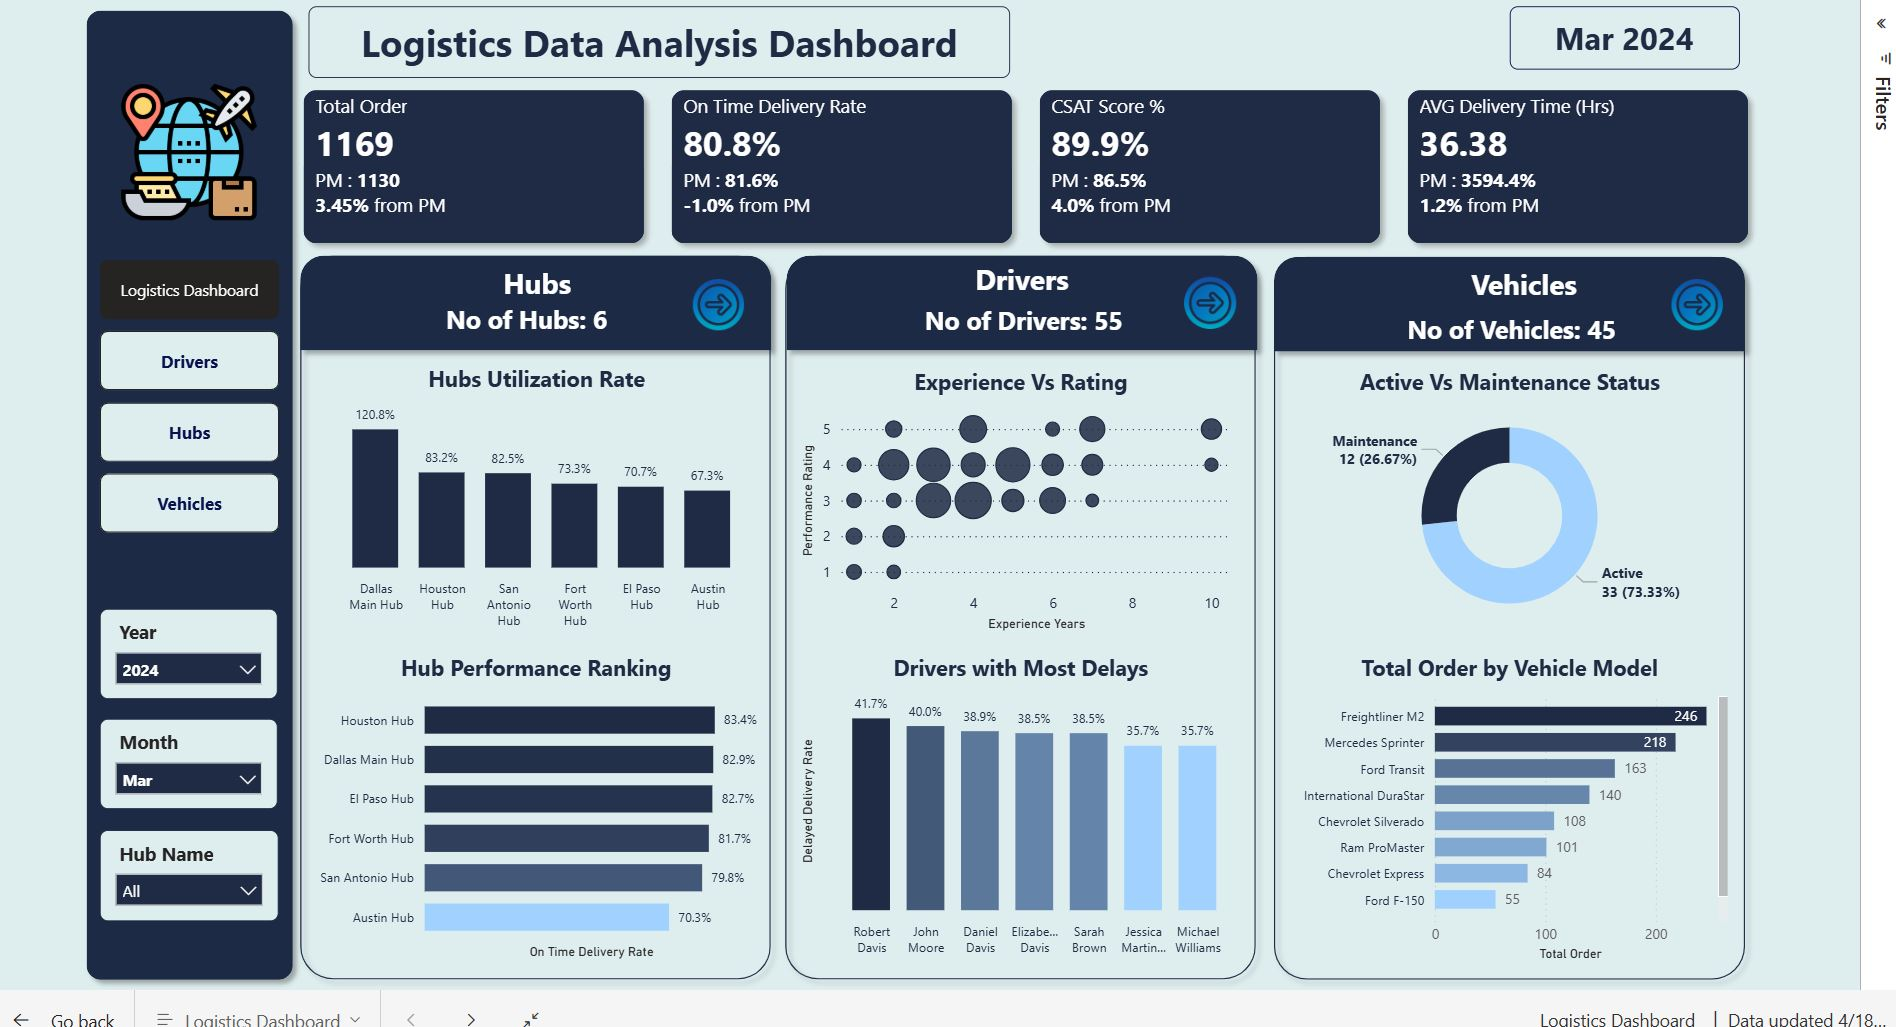

The page's visual inventory and layout, read from the dashboard file:
{"tool":"powerbi","page":{"name":"Logistics Dashboard","canvas":[1450,850],"ordinal":0},"visuals":[{"type":"shape","box":[0,0,195.1,850.3],"z":0},{"type":"textbox","box":[199.4,5.7,602.5,61.2],"z":1000},{"type":"slicer","fields":{"Values":["DATE.Year"]},"box":[20,522.6,153.2,77.3],"z":2000},{"type":"slicer","fields":{"Values":["DATE.Month"]},"box":[20,617.1,153.2,77.3],"z":3000},{"type":"cardVisual","fields":{"Data":["Orders.Total Order","Orders.On Time Delivery Rate","Orders.CSAT %","Orders.AVG Delivery Time (Hrs)"]},"box":[183.7,65.5,1266.2,158.1],"z":4000},{"type":"shape","box":[183.7,210.8,422,639.5],"z":5000},{"type":"shape","box":[183.1,210.5,422.4,99.5],"z":6000},{"type":"textbox","box":[300.5,226.5,190.9,41.3],"z":7000},{"type":"cardVisual","fields":{"Data":["Hubs.No of Hubs"]},"box":[317.2,246.5,177.3,47.6],"z":8000},{"type":"clusteredBarChart","title":"Hub Performance Ranking","fields":{"Category":["Orders.Hub Name"],"Y":["Orders.On Time Delivery Rate"]},"box":[199,560.8,392.9,268.3],"z":9000},{"type":"shape","box":[600.1,210.5,422,639.5],"z":10000},{"type":"shape","box":[601.2,210.5,422.4,99.5],"z":11000},{"type":"textbox","box":[737.8,223.6,149.5,39.9],"z":12000},{"type":"cardVisual","fields":{"Data":["Drivers.No of Drivers"]},"box":[729.2,246.4,178,48.4],"z":13000},{"type":"shape","box":[1019.2,211.9,422.4,638.6],"z":14000},{"type":"shape","box":[1019.2,211.9,422.4,99.5],"z":15000},{"type":"cardVisual","fields":{"Data":["Vehicles.No of Vehicles"]},"box":[1143.2,255.2,230.7,47.6],"z":16000},{"type":"scatterChart","title":"Experience Vs Rating","fields":{"X":["Drivers.Experience Years"],"Y":["Drivers.Performance Rating"],"Size":["Orders.CSAT Score"]},"box":[617.9,315,386,231.9],"z":17000},{"type":"clusteredColumnChart","title":"Drivers with Most Delays","fields":{"Category":["Drivers.DriverName"],"Y":["Orders.Delayed Delivery Rate"]},"box":[617.9,560.8,386,268.3],"z":18000},{"type":"donutChart","title":"Active Vs Maintenance Status","fields":{"Category":["Vehicles.Vehicle Status"],"Y":["CountNonNull(Vehicles.Vehicle ID)"]},"box":[1038.4,315,384.2,231.9],"z":19000},{"type":"barChart","title":"Total Order by Vehicle Model ","fields":{"Category":["Vehicles.Vehicle Model"],"Y":["Orders.Total Order"]},"box":[1038.4,560.8,384.2,270],"z":20000},{"type":"image","box":[942.9,229.3,61.2,61.2],"z":21000},{"type":"image","box":[28.6,65.9,136,130.3],"z":22000},{"type":"image","box":[521.1,230.5,60.1,61.6],"z":23000},{"type":"image","box":[1361.5,230.5,60.1,61.6],"z":24000},{"type":"pageNavigator","box":[20,223.3,154.6,236.2],"z":25000},{"type":"textbox","box":[1169.3,223.6,146.7,47],"z":26000},{"type":"cardVisual","fields":{"Data":["DATE.Year Month Value"]},"box":[1230.6,5.7,198,54.1],"z":27000},{"type":"clusteredColumnChart","title":"Hubs Utilization Rate","fields":{"Category":["Hubs.Hub Name"],"Y":["Hubs.Utalization Rate"]},"box":[199.4,311.9,391.7,235],"z":28000},{"type":"slicer","fields":{"Values":["Hubs.Hub Name"]},"box":[19.9,712.1,153.8,78.3],"z":29000}]}

Visuals, with their boxes on the page's 1450x850 design canvas (x1, y1, x2, y2). These are canvas units, not pixel positions in the 1896x1027 screenshot, which may show the page scaled, cropped or inside an application window:
shape: bbox(0, 0, 195, 850)
textbox: bbox(199, 6, 802, 67)
slicer - DATE.Year: bbox(20, 523, 173, 600)
slicer - DATE.Month: bbox(20, 617, 173, 694)
cardVisual - Orders.Total Order x Orders.On Time Delivery Rate: bbox(184, 66, 1450, 224)
shape: bbox(184, 211, 606, 850)
shape: bbox(183, 210, 606, 310)
textbox: bbox(300, 226, 491, 268)
cardVisual - Hubs.No of Hubs: bbox(317, 246, 494, 294)
"Hub Performance Ranking" clusteredBarChart: bbox(199, 561, 592, 829)
shape: bbox(600, 210, 1022, 850)
shape: bbox(601, 210, 1024, 310)
textbox: bbox(738, 224, 887, 264)
cardVisual - Drivers.No of Drivers: bbox(729, 246, 907, 295)
shape: bbox(1019, 212, 1442, 850)
shape: bbox(1019, 212, 1442, 311)
cardVisual - Vehicles.No of Vehicles: bbox(1143, 255, 1374, 303)
"Experience Vs Rating" scatterChart: bbox(618, 315, 1004, 547)
"Drivers with Most Delays" clusteredColumnChart: bbox(618, 561, 1004, 829)
"Active Vs Maintenance Status" donutChart: bbox(1038, 315, 1423, 547)
"Total Order by Vehicle Model " barChart: bbox(1038, 561, 1423, 831)
image: bbox(943, 229, 1004, 290)
image: bbox(29, 66, 165, 196)
image: bbox(521, 230, 581, 292)
image: bbox(1362, 230, 1422, 292)
pageNavigator: bbox(20, 223, 175, 460)
textbox: bbox(1169, 224, 1316, 271)
cardVisual - DATE.Year Month Value: bbox(1231, 6, 1429, 60)
"Hubs Utilization Rate" clusteredColumnChart: bbox(199, 312, 591, 547)
slicer - Hubs.Hub Name: bbox(20, 712, 174, 790)
